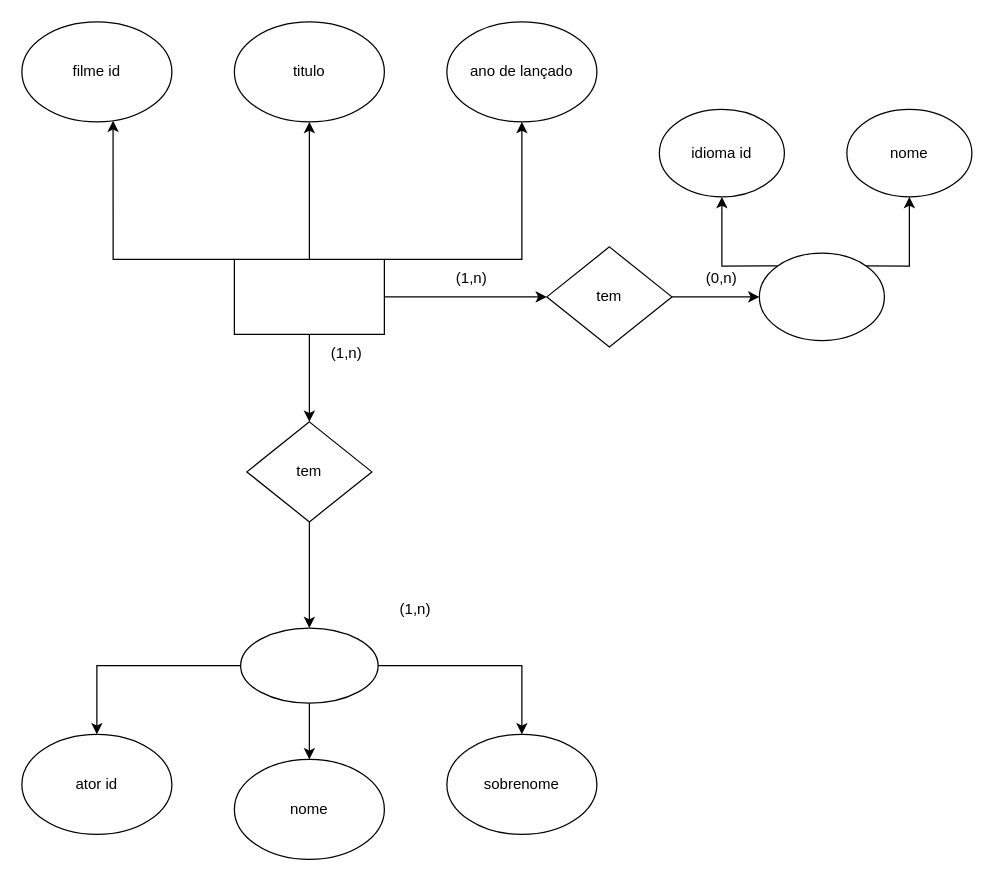
The diagram is 994 pixels wide and 881 high, and some of its shapes have lost their labels. The centre of each missing label's shape, as x and y in pixels:
"ator" belongs at [308,665].
"filme" belongs at [308,296].
"idioma" belongs at [821,296].
